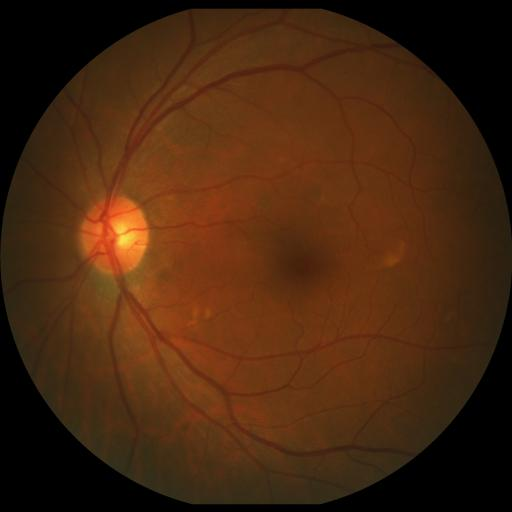Optic Cup: (108, 223, 136, 247)
Optic Disc: (81, 197, 151, 275)
